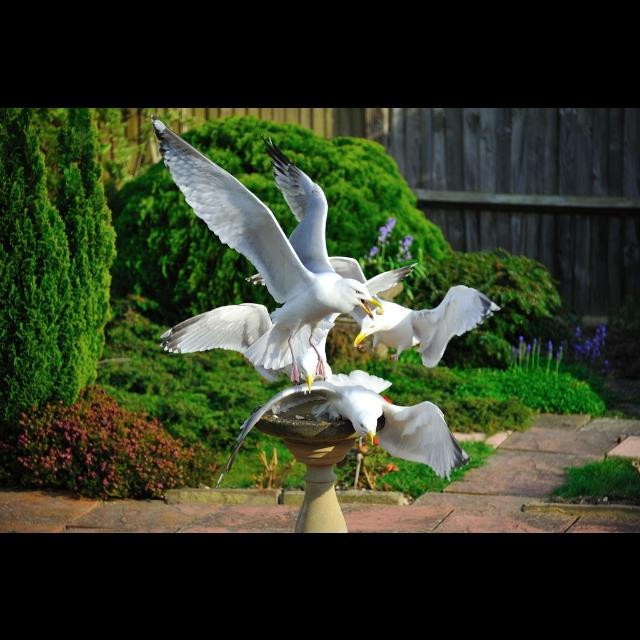Flower: (571, 322, 607, 360), (375, 214, 397, 242), (404, 234, 414, 256), (368, 244, 378, 254)
